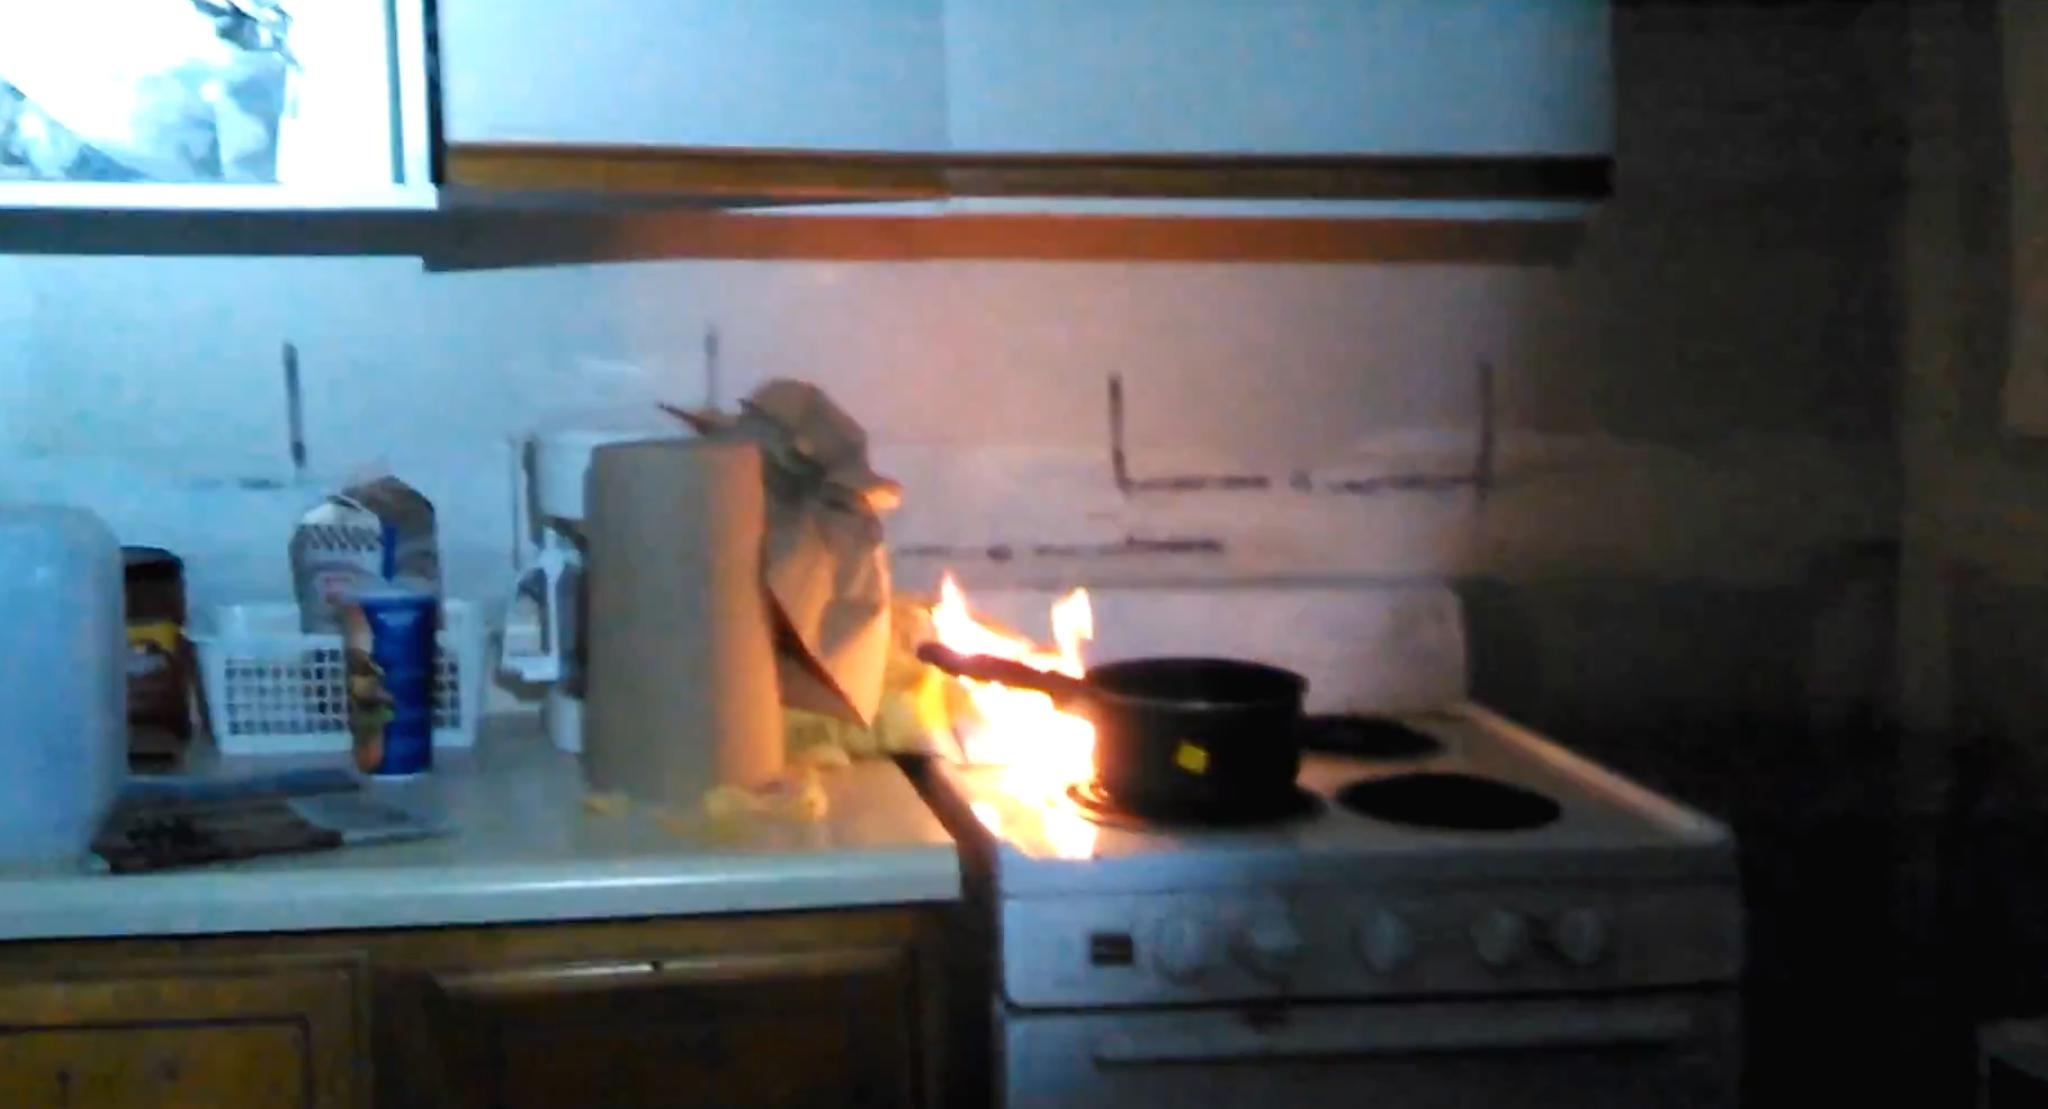fire: (808, 524, 1110, 854)
